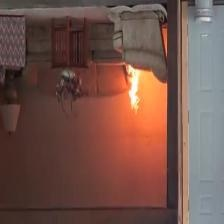fire: (112, 54, 157, 124)
